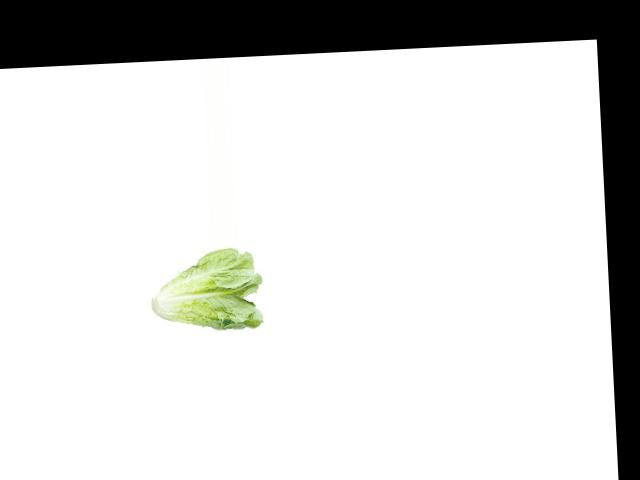lettuce: (146, 247, 264, 336)
